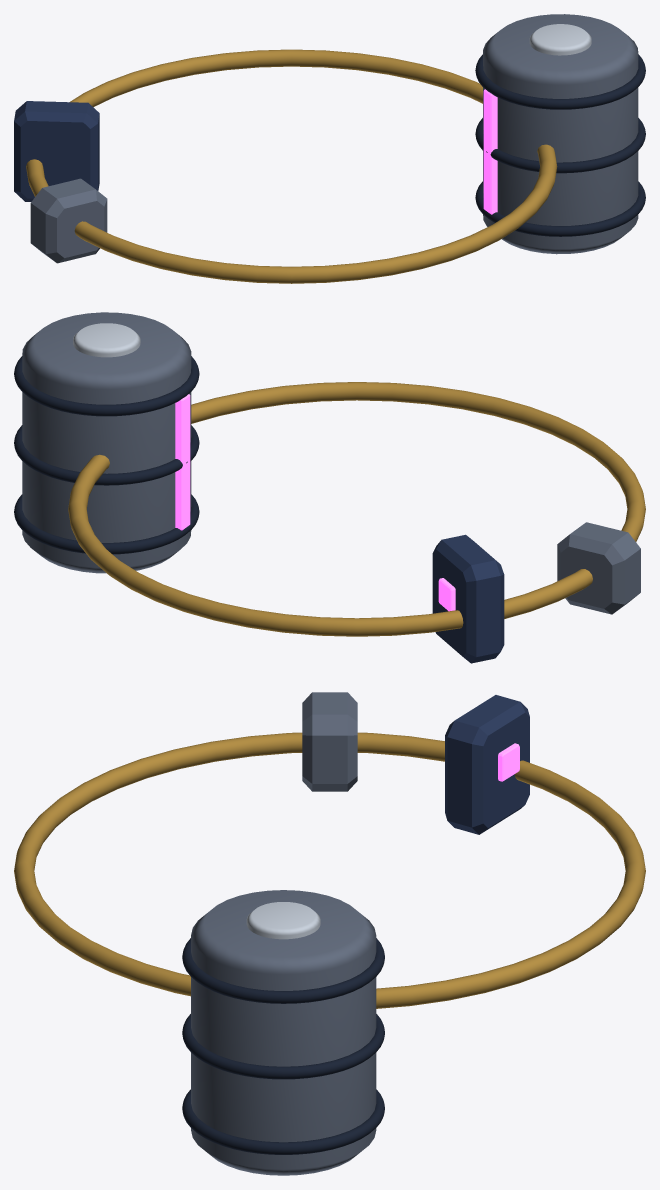
Rendered from tower_arc_rate_s4.glb.
3 renders of one model, top to bottom at view 1: azimuth 30°, elevation 25°; view 2: azimuth 150°, elevation 25°; view 3: azimuth 270°, elevation 25°, orthographic. The views are drawn at different scales.
Parts seen in each view (by area): view 1: arc_supercap, arc_coolant_loop, arc_meter_box, arc_coolant_pump, arc_supercap_rib0.18, arc_supercap_rib0, arc_supercap_rib-0.18, arc_supercap_gauge, arc_supercap_cap; view 2: arc_supercap, arc_coolant_loop, arc_meter_box, arc_coolant_pump, arc_supercap_rib0.18, arc_supercap_rib0, arc_supercap_rib-0.18, arc_supercap_gauge, arc_supercap_cap; view 3: arc_supercap, arc_coolant_loop, arc_meter_box, arc_coolant_pump, arc_supercap_rib0, arc_supercap_rib-0.18, arc_supercap_rib0.18, arc_supercap_cap.
Boxes of the visible parts, x1=… form: arc_supercap: x1=483, y1=14, x2=638, y2=254; arc_coolant_loop: x1=26, y1=49, x2=557, y2=283; arc_meter_box: x1=14, y1=101, x2=99, y2=201; arc_coolant_pump: x1=30, y1=178, x2=107, y2=263; arc_supercap_rib0.18: x1=475, y1=54, x2=645, y2=109; arc_supercap_rib0: x1=475, y1=118, x2=645, y2=173; arc_supercap_rib-0.18: x1=475, y1=181, x2=645, y2=236; arc_supercap_gauge: x1=483, y1=89, x2=497, y2=214; arc_supercap_cap: x1=529, y1=24, x2=591, y2=55; arc_supercap: x1=22, y1=312, x2=191, y2=573; arc_coolant_loop: x1=68, y1=382, x2=645, y2=636; arc_meter_box: x1=432, y1=534, x2=504, y2=663; arc_coolant_pump: x1=557, y1=522, x2=640, y2=614; arc_supercap_rib0.18: x1=14, y1=356, x2=199, y2=416; arc_supercap_rib0: x1=14, y1=425, x2=199, y2=485; arc_supercap_rib-0.18: x1=14, y1=494, x2=199, y2=554; arc_supercap_gauge: x1=175, y1=394, x2=190, y2=530; arc_supercap_cap: x1=73, y1=323, x2=140, y2=357; arc_supercap: x1=191, y1=890, x2=376, y2=1175; arc_coolant_loop: x1=14, y1=732, x2=645, y2=1008; arc_meter_box: x1=445, y1=695, x2=529, y2=834; arc_coolant_pump: x1=302, y1=692, x2=357, y2=791; arc_supercap_rib0: x1=182, y1=1014, x2=384, y2=1079; arc_supercap_rib-0.18: x1=182, y1=1089, x2=384, y2=1154; arc_supercap_rib0.18: x1=182, y1=938, x2=384, y2=1003; arc_supercap_cap: x1=246, y1=902, x2=320, y2=939.
Size of the model in its own units: 1.71 by 0.56 by 1.36.
